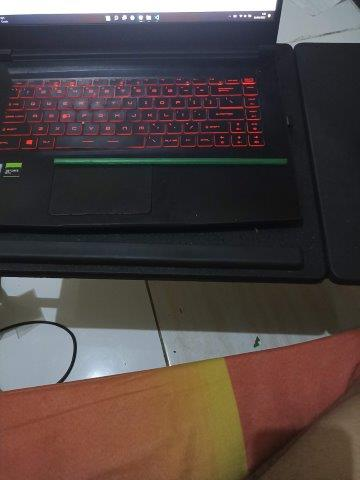sedotan: (53, 157, 287, 166)
